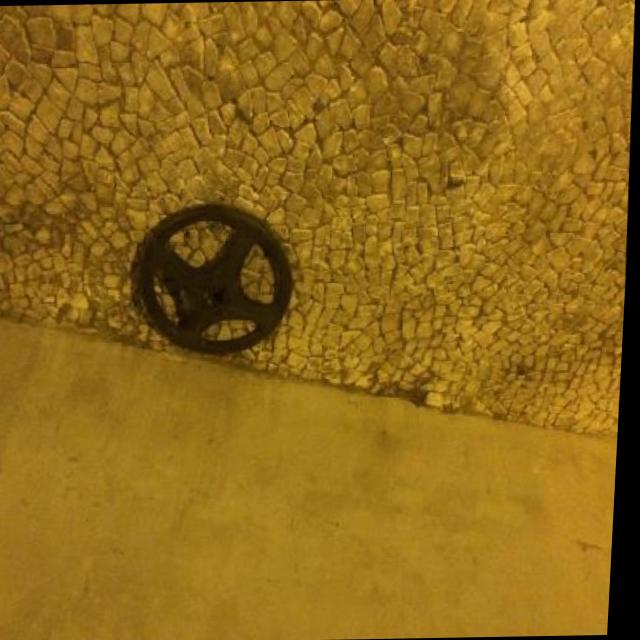other: (133, 202, 299, 358)
